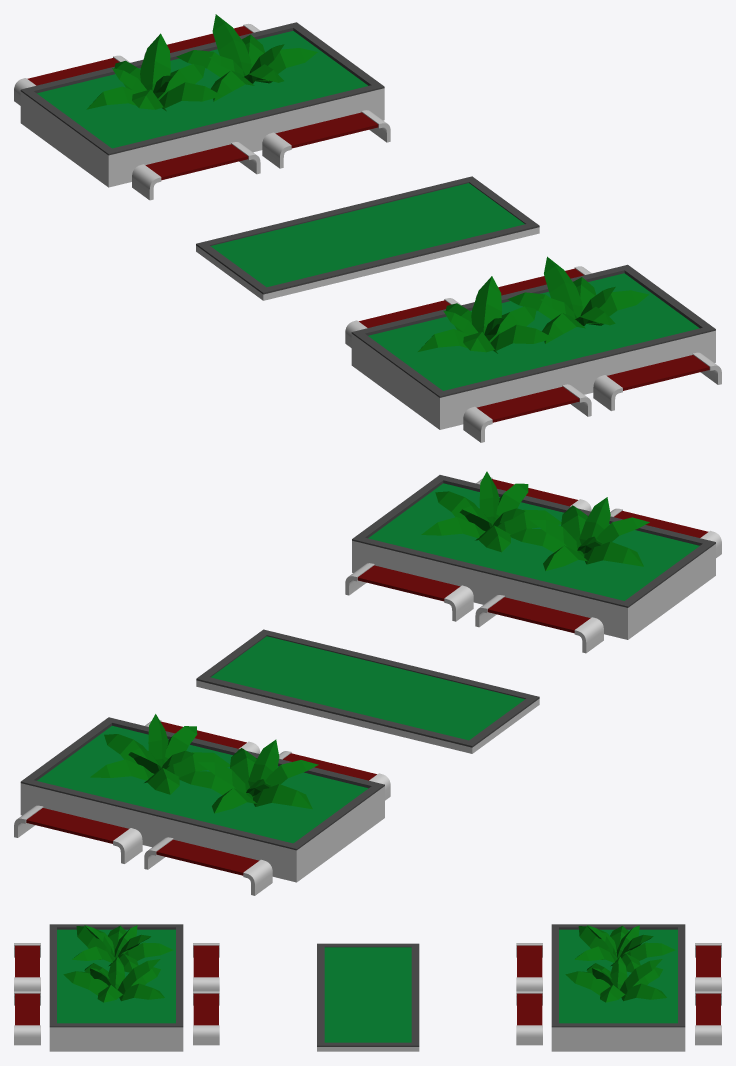
Rendered from Park-02.fbx.
The picture shows the model from 3 angles, top to bottom: view 1: azimuth 30°, elevation 25°; view 2: azimuth 150°, elevation 25°; view 3: azimuth 270°, elevation 25°; orthographic projection. The views are drawn at different scales.
Visible parts, largest first — view 1: Park-02; view 2: Park-02; view 3: Park-02.
Boxes of the visible parts, left/top/right/bottom form: Park-02: left=14, top=14, right=721, bottom=442; Park-02: left=14, top=471, right=721, bottom=895; Park-02: left=14, top=924, right=721, bottom=1051.
Size of what is drawn, in the model's own units: 6.72 by 1.76 by 19.68.
